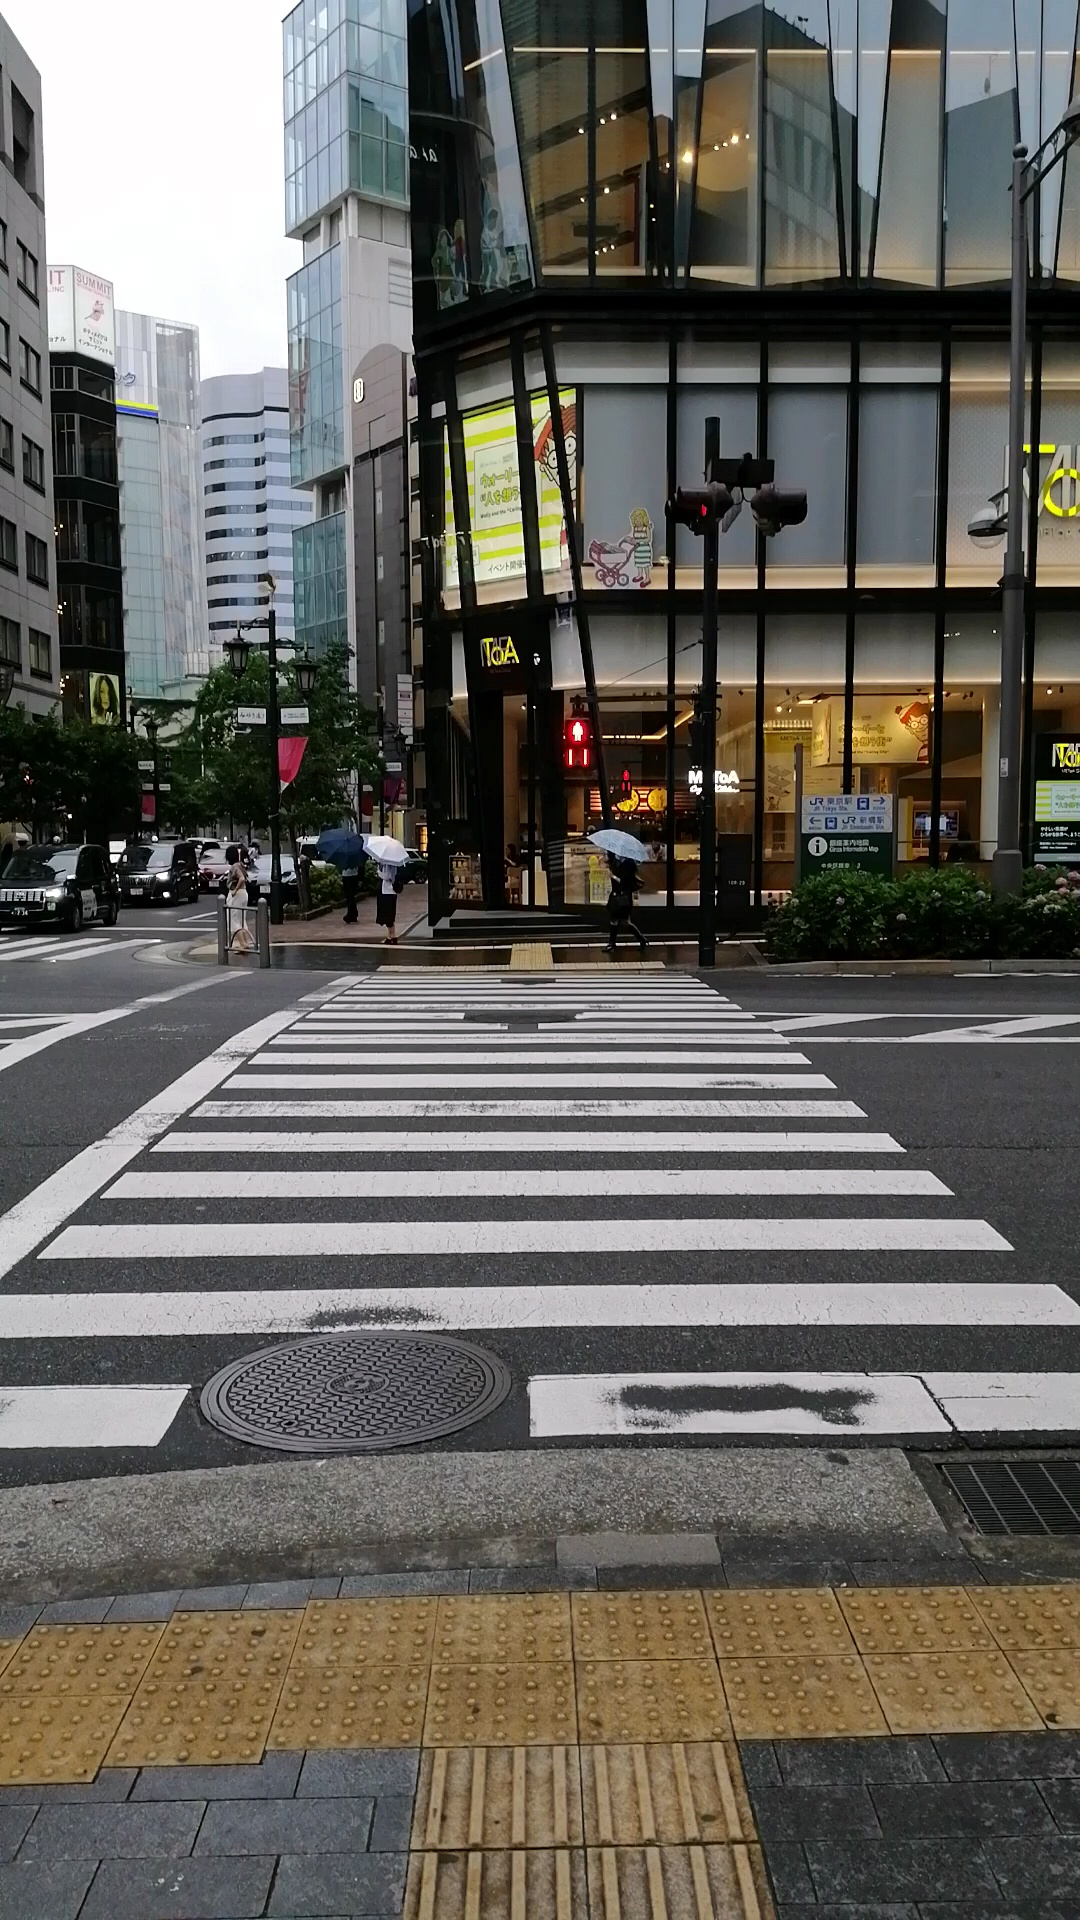red: (560, 717, 592, 771)
